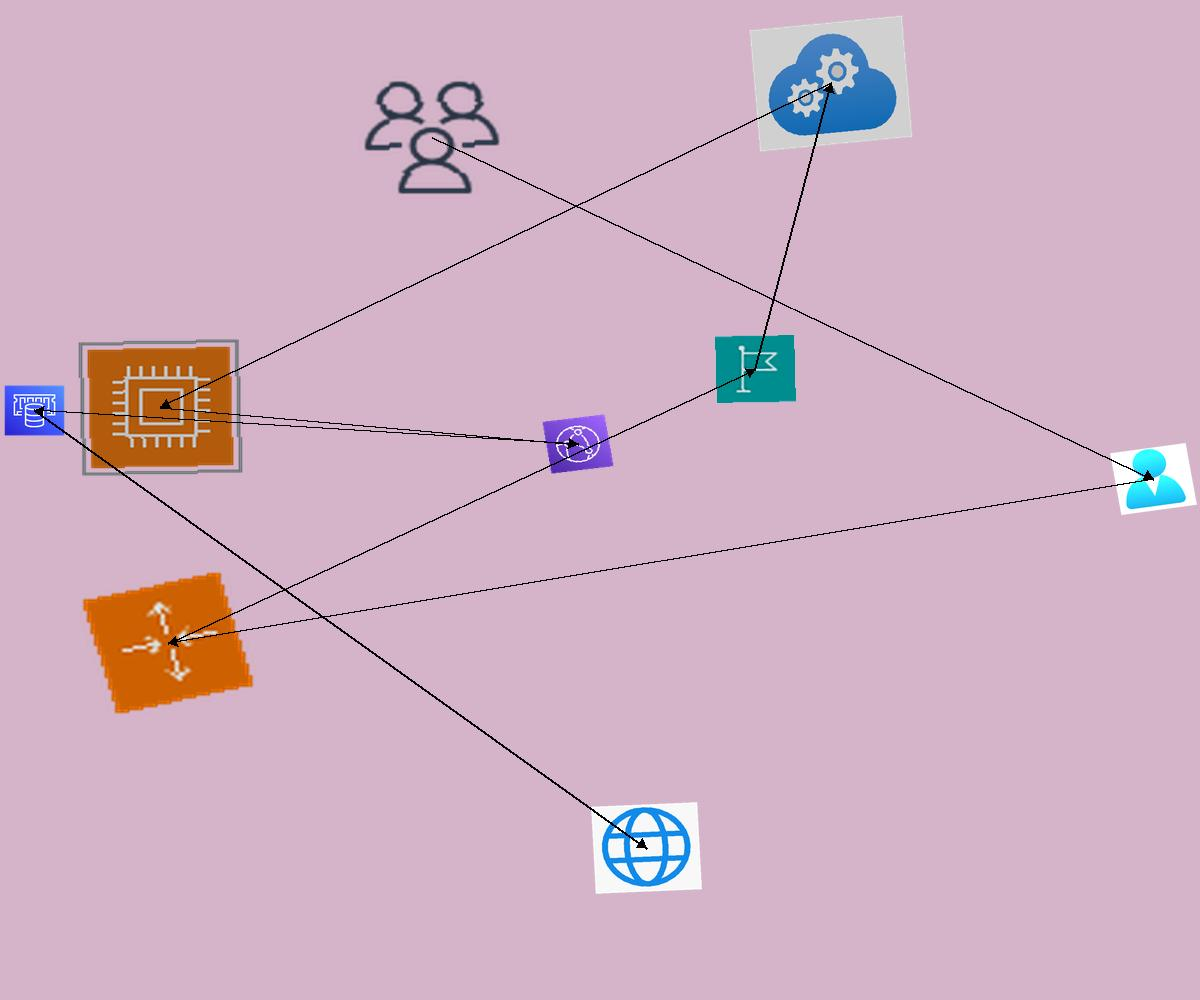AWS-Category_Compute: (77, 338, 244, 477)
AWS-CloudFront: (542, 414, 614, 474)
AWS-ElastiCache: (4, 385, 65, 436)
AWS-Region: (715, 335, 796, 403)
AWS-Res_Users: (356, 74, 508, 201)
AWS-Scaling-group: (80, 570, 256, 716)
Azure_cloud_services: (749, 15, 913, 152)
Azure_http: (591, 802, 702, 894)
Azure_users: (1110, 443, 1197, 515)
